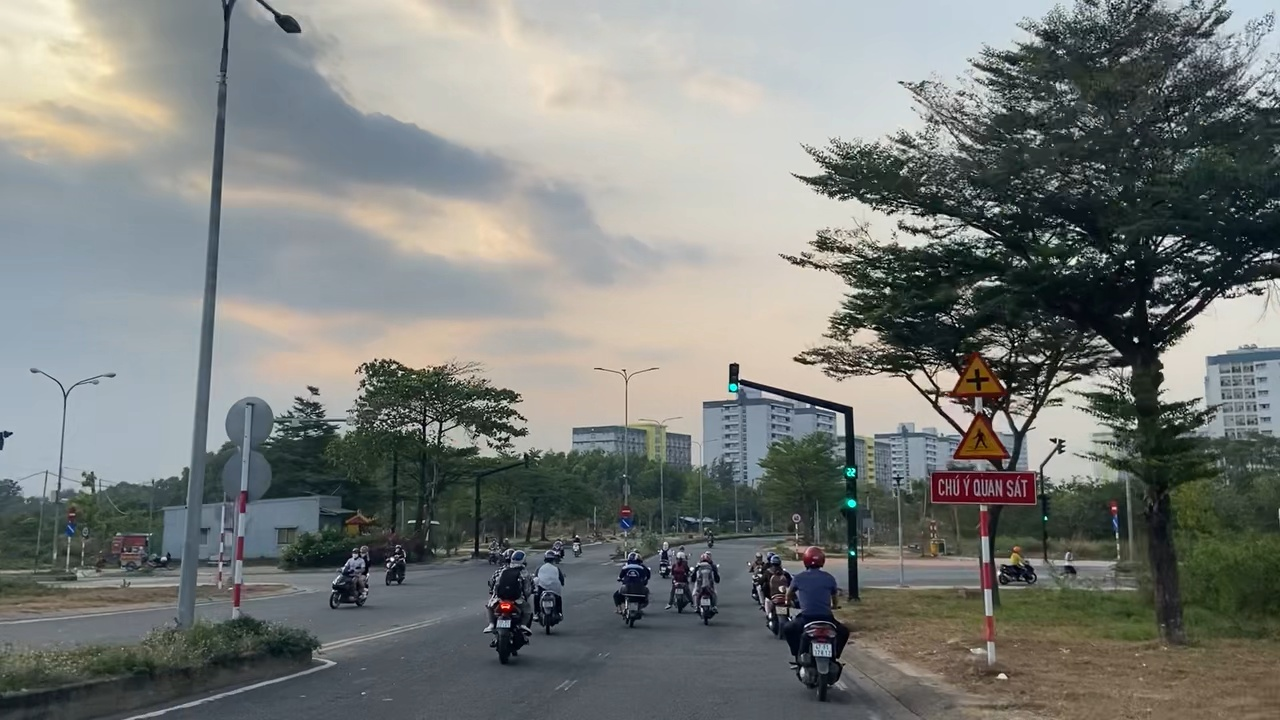can_than_nguoi_qua_duong: (950, 410, 1012, 462)
giao_nhau_chu_thap: (949, 349, 1010, 399)
